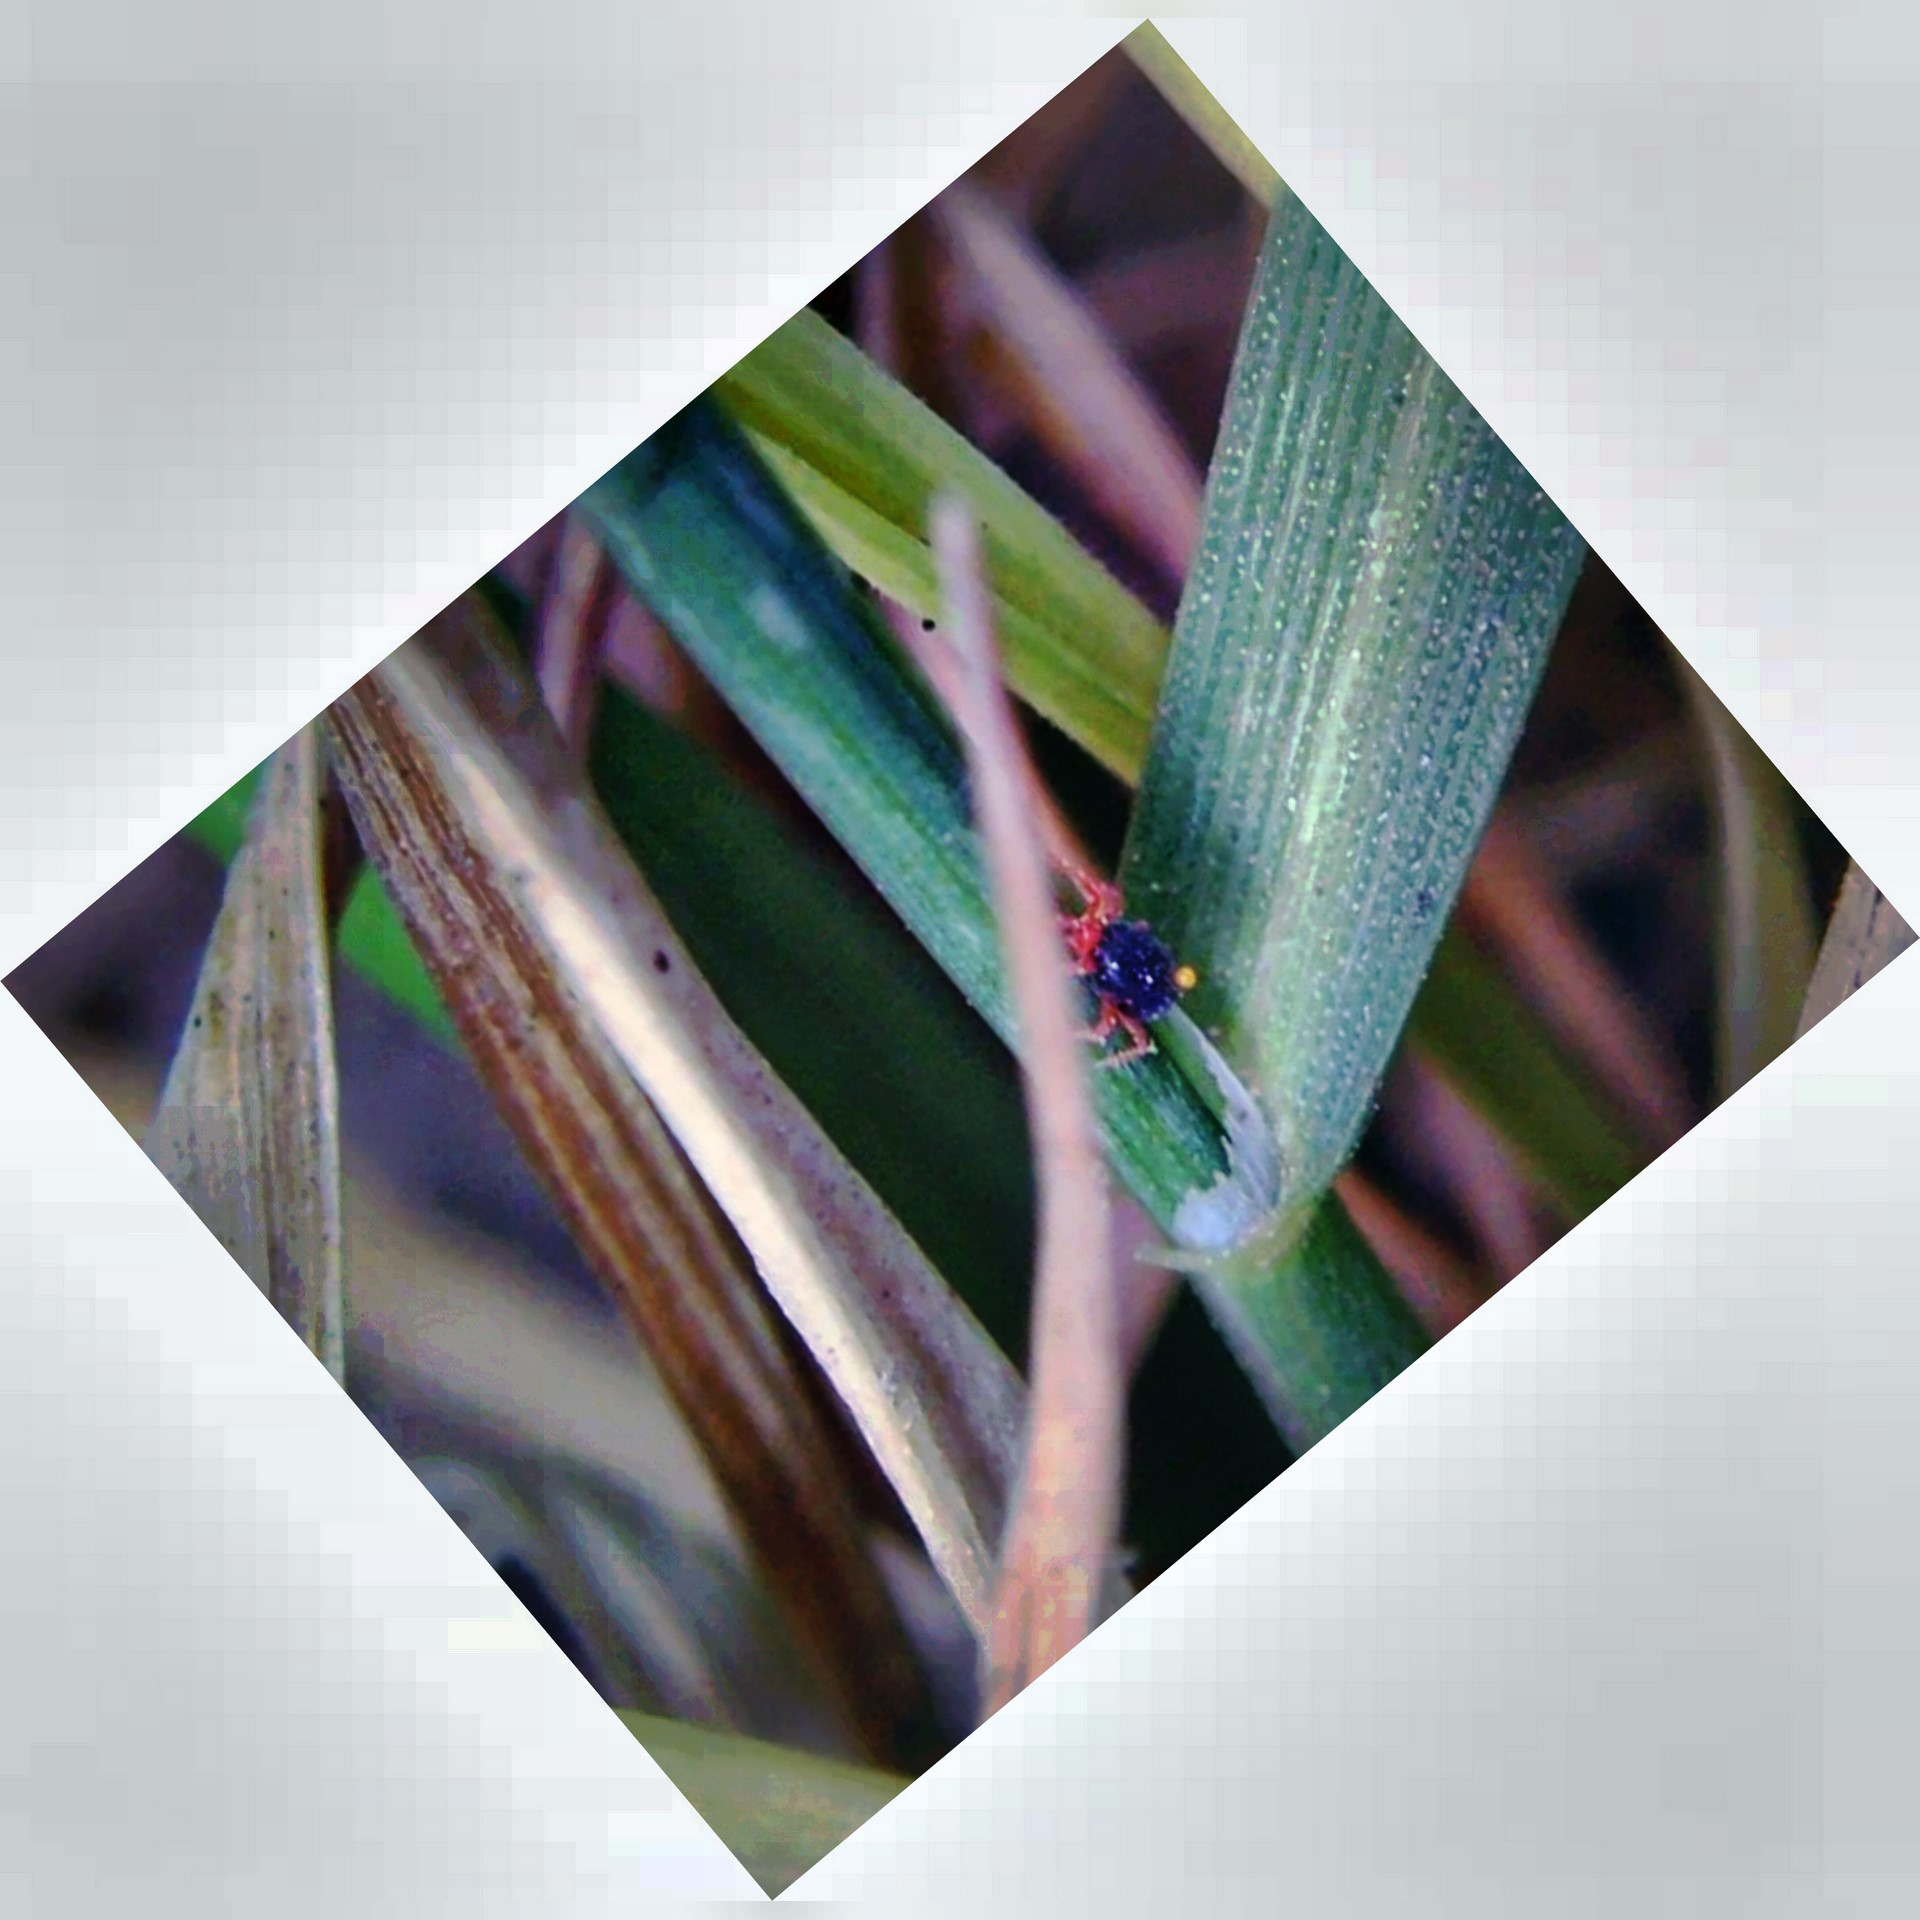Wheat Red Spider: (1037, 862, 1199, 1087)
